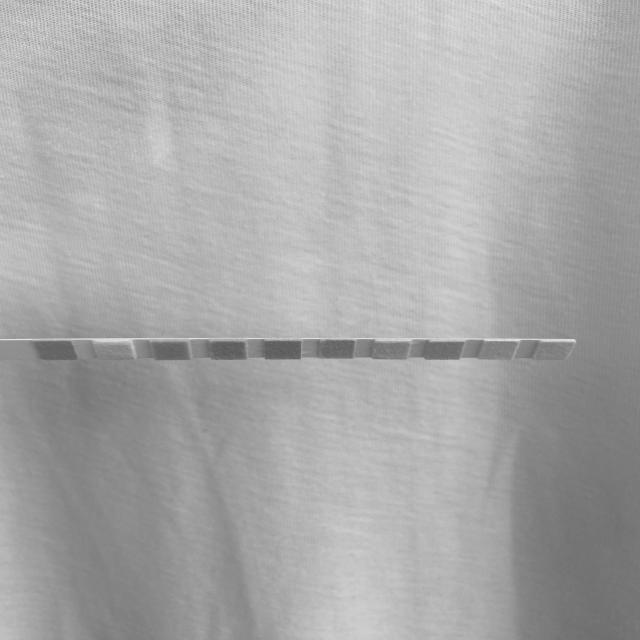Bilirubin: (98, 342, 128, 358)
Blood: (266, 342, 300, 359)
Glucose: (43, 341, 69, 359)
Ketone: (157, 342, 186, 360)
Leukocytes: (542, 342, 566, 359)
Nitrite: (486, 342, 512, 359)
Protein: (376, 342, 406, 359)
SpGravity: (212, 342, 244, 359)
Urobilinogen: (431, 342, 459, 358)
background: (0, 0, 640, 640)
pH: (322, 340, 354, 358)
strip: (0, 339, 577, 360)
